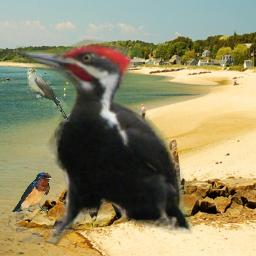Cuckoo: (27, 67, 70, 122)
Swallow: (11, 172, 52, 213)
Woodpecker: (16, 32, 194, 244)
